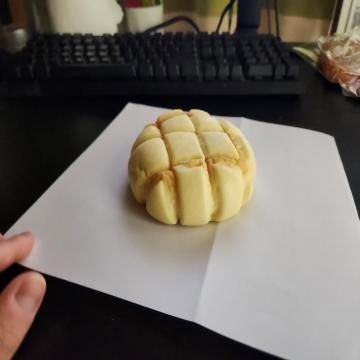melon_bread: (128, 109, 256, 227)
